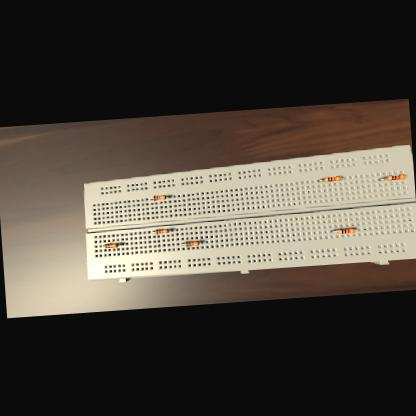breadboard: (79, 143, 416, 284)
resistor: (387, 174, 406, 180), (186, 240, 200, 246), (324, 176, 340, 181), (338, 228, 354, 233), (156, 228, 169, 234), (152, 195, 166, 200), (105, 244, 118, 249)
wire: (379, 178, 388, 180), (318, 179, 325, 181), (332, 230, 338, 232), (200, 240, 204, 242), (119, 244, 124, 245), (167, 196, 171, 197), (182, 244, 184, 245), (341, 177, 342, 178), (151, 198, 153, 198)
